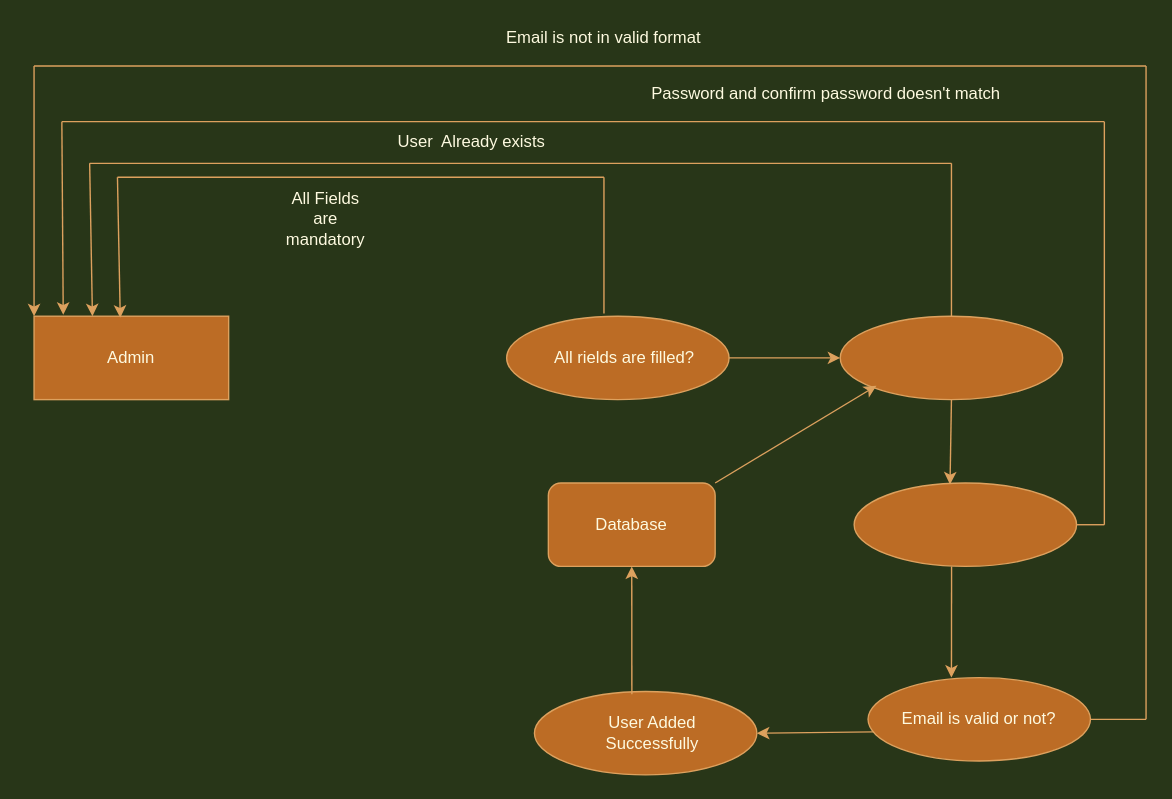
This 1172x799 diagram has some shape labels left out. Each missing label, with the box of its shape:
Text: (853, 482, 1077, 566)
User Exist ALready?: (839, 315, 1063, 400)
